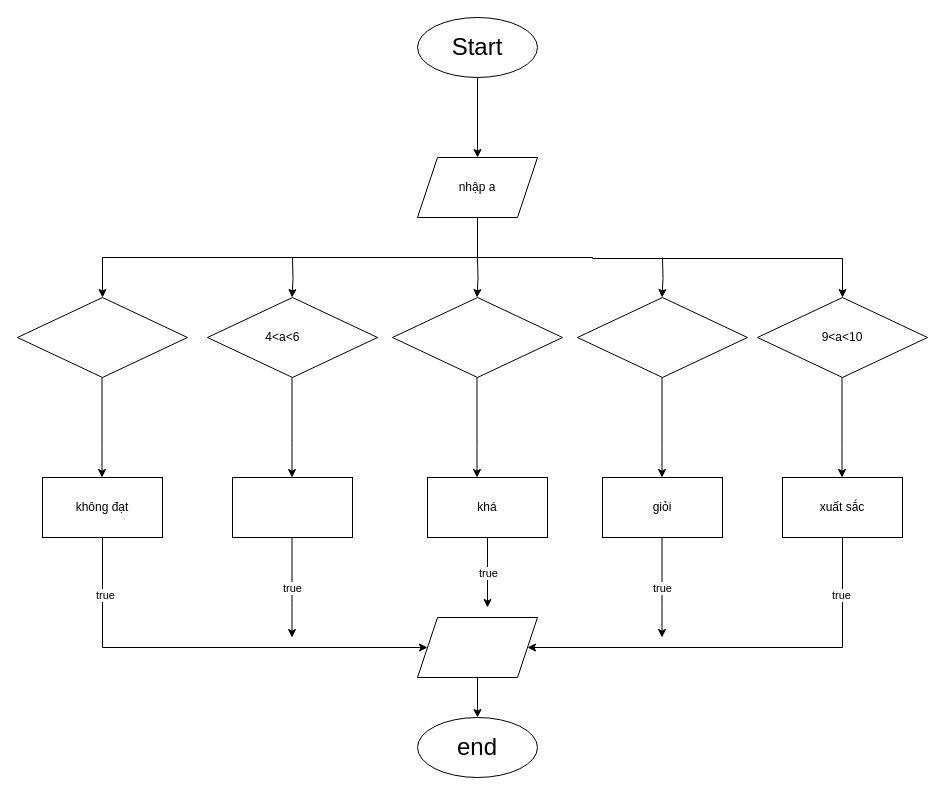
Image size: 945x795. Some labels were removed from this diagram. The centre of each missing label's shape, as x and y in pixels:
"6<a<8" goes at (x=477, y=337).
"8<a<9" goes at (x=662, y=337).
"a<4" goes at (x=102, y=337).
"hợp lệ" goes at (x=477, y=647).
"trung bình" goes at (x=292, y=507).
